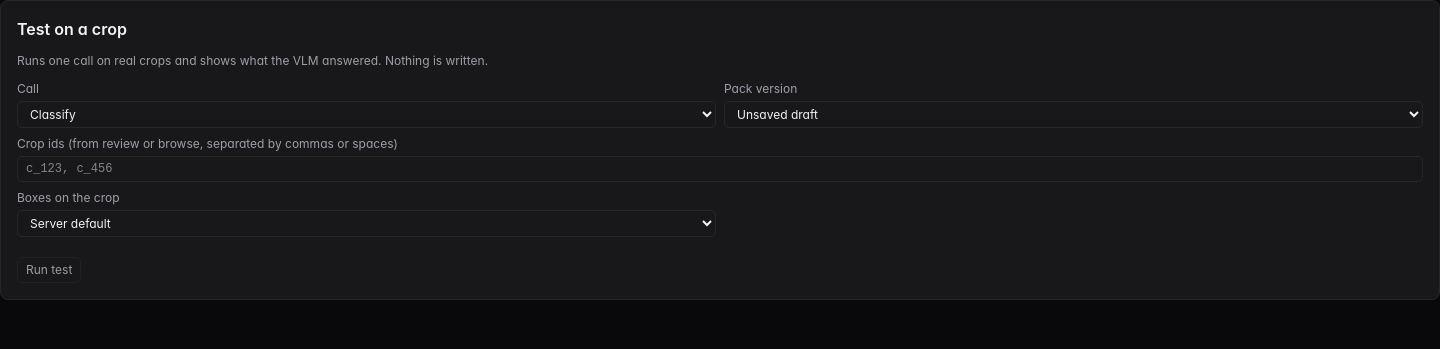
Test case: PackTestPanel › a classify test with an empty registry shows the served 422 no_class_names detail
Type "c_1" into the field. click: point(720, 169)
box: [17,156,1423,182]
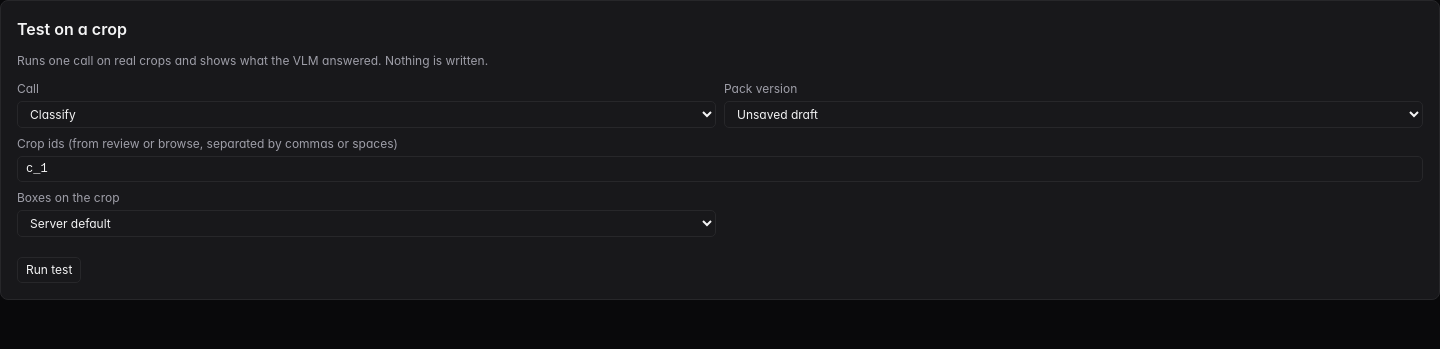
Click the button "Run test". click: point(49, 270)
box: [17,257,81,283]
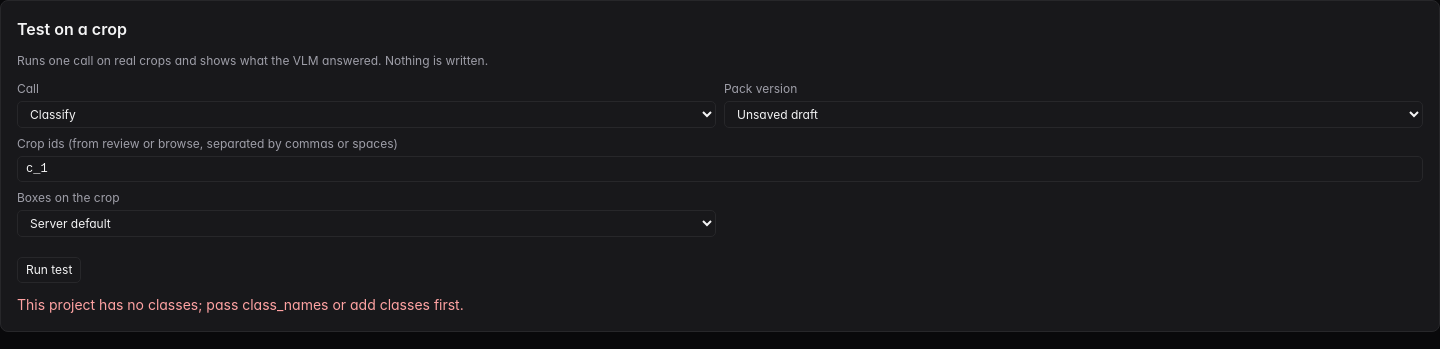
expect the text "This project has no classes; pass class_names or add classes first." is shown: met, box [17,296,464,313]
